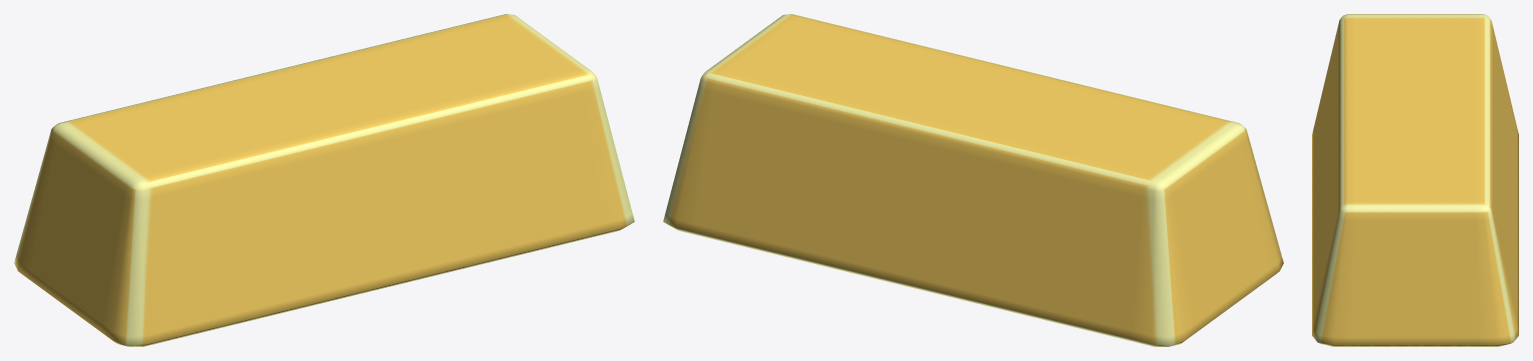
Rendered from ingot.fbx.
The picture shows the model from 3 angles, left to right: view 1: azimuth 30°, elevation 25°; view 2: azimuth 150°, elevation 25°; view 3: azimuth 270°, elevation 25°; orthographic projection. The views are drawn at different scales.
Parts seen in each view (by area): view 1: pCube1; view 2: pCube1; view 3: pCube1.
Part boxes in pixels (x1,y1,x2,y2): pCube1: (14,14,634,346); pCube1: (663,14,1283,346); pCube1: (1312,14,1518,346).
Size of the model in its own units: 0.00216 by 0.0006 by 0.00086.
